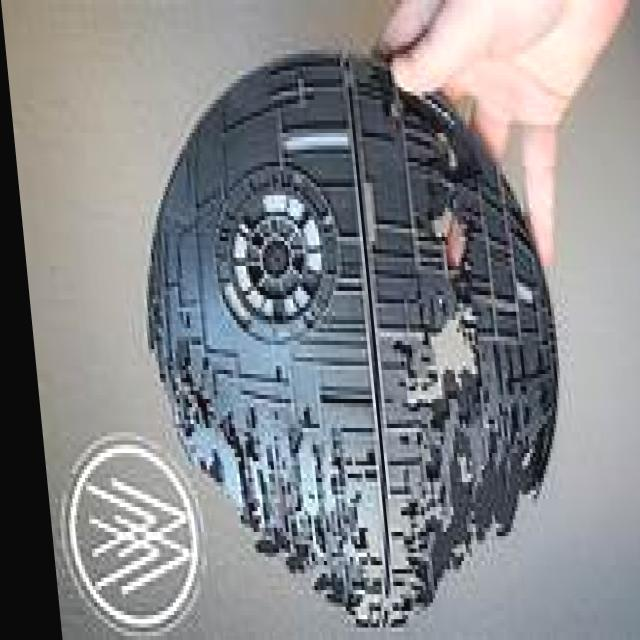deathStar: (127, 45, 569, 625)
